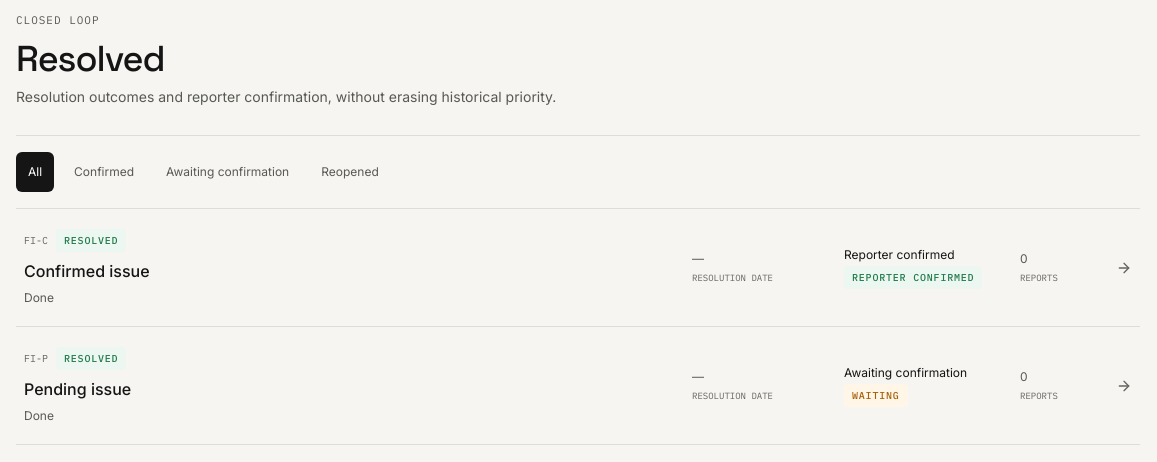
Test: filters resolved confirmation outcomes and keeps reopened explicit
expect the text "Confirmed issue" is shown: met, box [24,261,150,281]
expect the text "Pending issue" is shown: met, box [24,379,131,399]
What coordinates should you click on to do the following:
click the button "Reopened"
I would click on:
 (350, 172)
Its box is [309,152,391,192].
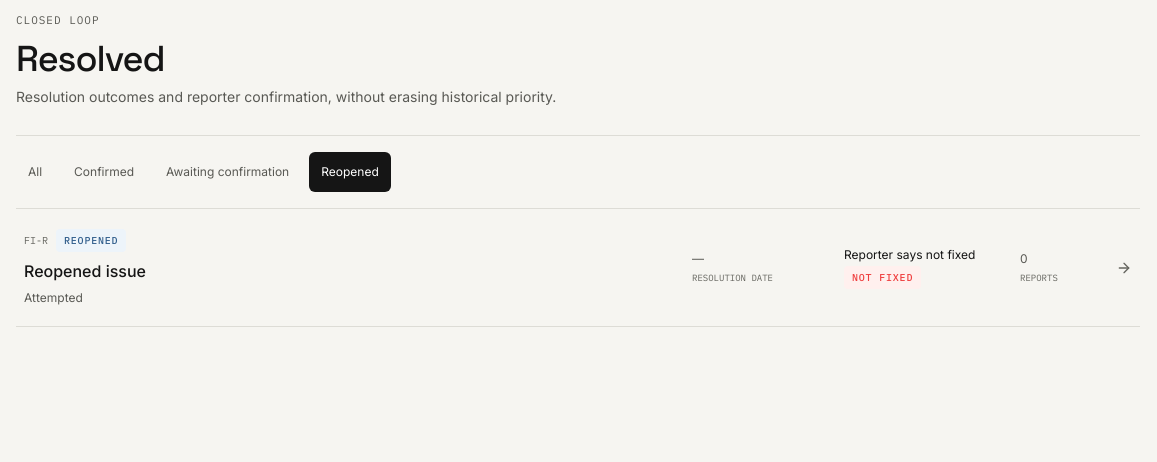
expect the text "Reopened issue" is shown: met, box [24,261,146,281]
expect the link "Confirmed issue" is gone: met
